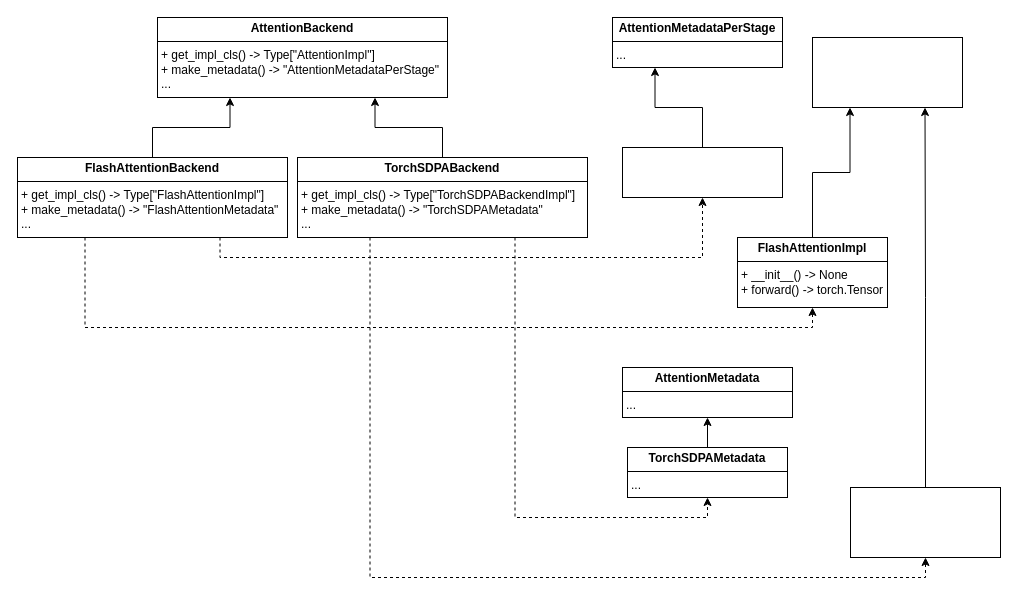
Image size: 1018x603. Some labels were removed from this diagram. The centre of each missing label's shape, as x and y in pixels:
"AttentionImpl + __init__() -> None + forward() -> torch.Tensor" goes at point 887,72.
"FlashAttentionMetadata ..." goes at point 702,172.
"TorchSDPABackend Impl + __init__() -> None + forward() -> torch.Tensor" goes at point 925,522.
